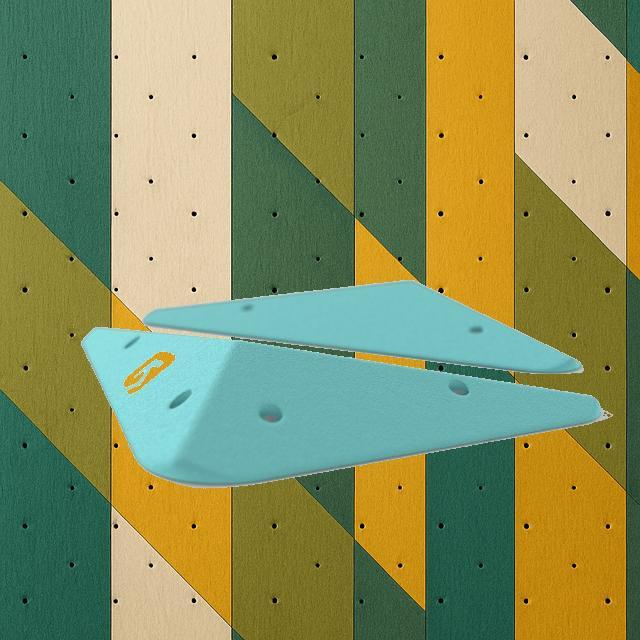Volume: (79, 324, 604, 486), (140, 276, 584, 374)
